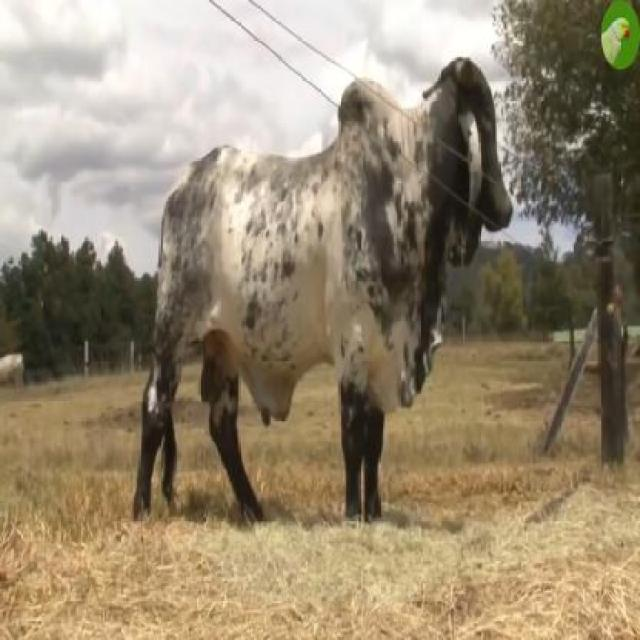Cow: (130, 57, 512, 532)
